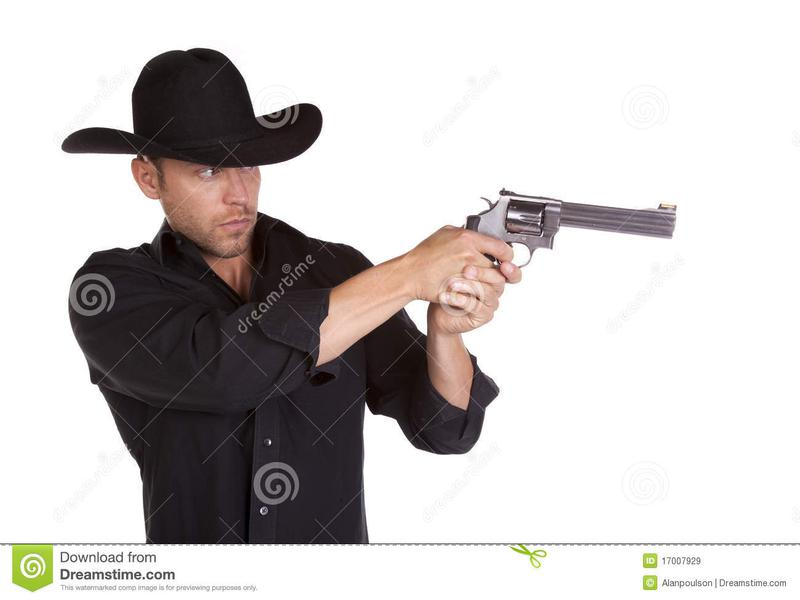Revolver: (459, 179, 683, 281)
